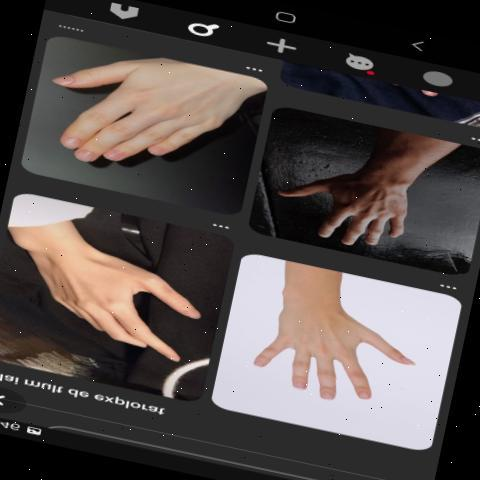Hands: (40, 50, 265, 184), (22, 218, 217, 367), (244, 290, 424, 412), (270, 157, 448, 253)
